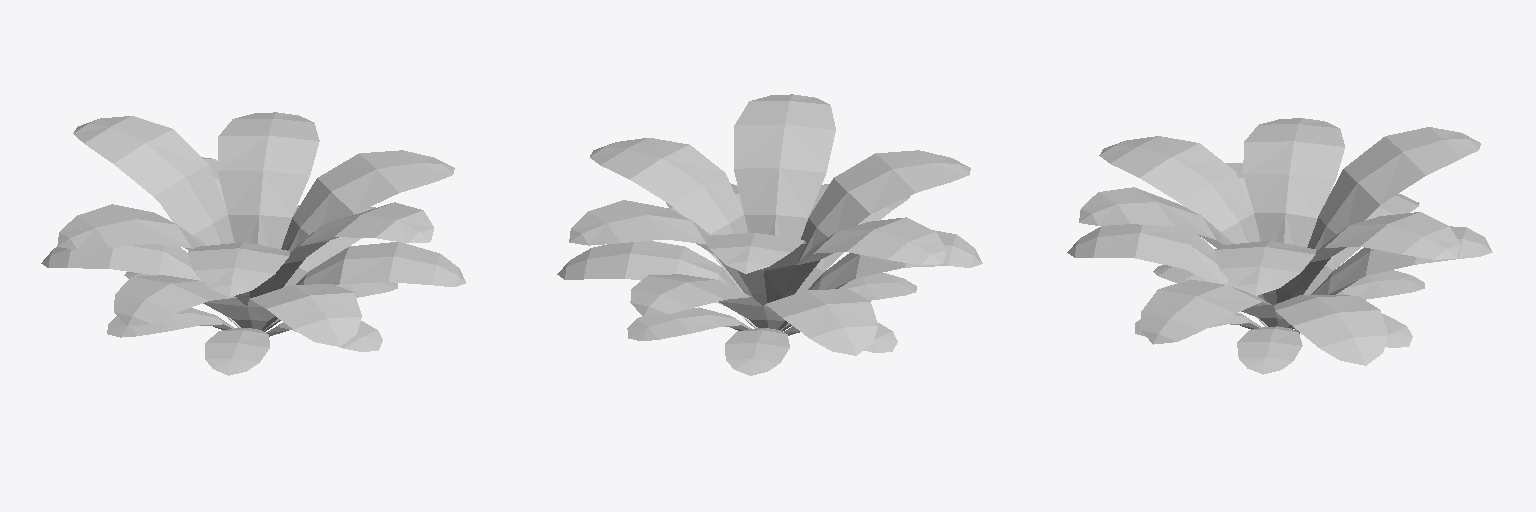
The model's file is grass.obj.
3 renders of one model, left to right at view 1: azimuth 30°, elevation 25°; view 2: azimuth 150°, elevation 25°; view 3: azimuth 270°, elevation 25°, orthographic.
Parts seen in each view (by area): view 1: GrassTop__MI_Grass_01.031_MI_Grass_01.001, GrassTop__MI_Grass_01.032_MI_Grass_01.001, GrassTop__MI_Grass_01.030_MI_Grass_01.001, GrassBase__MI_Grass_01_MI_Grass_01, GrassTop__MI_Grass_01.001_MI_Grass_01.001, GrassTop__MI_Grass_01_MI_Grass_01.001, GrassTop__MI_Grass_01.033_MI_Grass_01.001, GrassTop__MI_Grass_01.034_MI_Grass_01.001, GrassTop__MI_Grass_01.004_MI_Grass_01.001, GrassTop__MI_Grass_01.003_MI_Grass_01.001, GrassTop__MI_Grass_01.035_MI_Grass_01.001, GrassTop__MI_Grass_01.002_MI_Grass_01.001 (+2 smaller); view 2: GrassTop__MI_Grass_01.035_MI_Grass_01.001, GrassTop__MI_Grass_01.030_MI_Grass_01.001, GrassTop__MI_Grass_01.034_MI_Grass_01.001, GrassBase__MI_Grass_01_MI_Grass_01, GrassTop__MI_Grass_01.003_MI_Grass_01.001, GrassTop__MI_Grass_01.002_MI_Grass_01.001, GrassTop__MI_Grass_01.031_MI_Grass_01.001, GrassTop__MI_Grass_01.033_MI_Grass_01.001, GrassTop__MI_Grass_01.029_MI_Grass_01.001, GrassTop__MI_Grass_01.004_MI_Grass_01.001, GrassTop__MI_Grass_01.032_MI_Grass_01.001, GrassTop__MI_Grass_01.013_MI_Grass_01.001 (+3 smaller); view 3: GrassTop__MI_Grass_01.033_MI_Grass_01.001, GrassTop__MI_Grass_01.034_MI_Grass_01.001, GrassTop__MI_Grass_01.032_MI_Grass_01.001, GrassBase__MI_Grass_01_MI_Grass_01, GrassTop__MI_Grass_01.002_MI_Grass_01.001, GrassTop__MI_Grass_01_MI_Grass_01.001, GrassTop__MI_Grass_01.001_MI_Grass_01.001, GrassTop__MI_Grass_01.031_MI_Grass_01.001, GrassTop__MI_Grass_01.035_MI_Grass_01.001, GrassTop__MI_Grass_01.030_MI_Grass_01.001, GrassTop__MI_Grass_01.029_MI_Grass_01.001, GrassTop__MI_Grass_01.003_MI_Grass_01.001 (+1 smaller).
Boxes of the visible parts, <box> form: GrassTop__MI_Grass_01.031_MI_Grass_01.001: <box>217,112,319,248</box>; GrassTop__MI_Grass_01.032_MI_Grass_01.001: <box>73,116,234,245</box>; GrassTop__MI_Grass_01.030_MI_Grass_01.001: <box>281,150,454,252</box>; GrassBase__MI_Grass_01_MI_Grass_01: <box>107,272,397,375</box>; GrassTop__MI_Grass_01.001_MI_Grass_01.001: <box>296,242,465,286</box>; GrassTop__MI_Grass_01_MI_Grass_01.001: <box>250,284,361,346</box>; GrassTop__MI_Grass_01.033_MI_Grass_01.001: <box>57,204,207,249</box>; GrassTop__MI_Grass_01.034_MI_Grass_01.001: <box>188,242,289,297</box>; GrassTop__MI_Grass_01.004_MI_Grass_01.001: <box>114,275,235,326</box>; GrassTop__MI_Grass_01.003_MI_Grass_01.001: <box>41,244,202,281</box>; GrassTop__MI_Grass_01.035_MI_Grass_01.001: <box>290,202,433,253</box>; GrassTop__MI_Grass_01.002_MI_Grass_01.001: <box>283,205,375,287</box>; GrassTop__MI_Grass_01.035_MI_Grass_01.001: <box>734,94,835,239</box>; GrassTop__MI_Grass_01.030_MI_Grass_01.001: <box>590,138,748,234</box>; GrassTop__MI_Grass_01.034_MI_Grass_01.001: <box>797,150,970,262</box>; GrassBase__MI_Grass_01_MI_Grass_01: <box>627,273,916,375</box>; GrassTop__MI_Grass_01.003_MI_Grass_01.001: <box>766,289,877,355</box>; GrassTop__MI_Grass_01.002_MI_Grass_01.001: <box>557,241,739,290</box>; GrassTop__MI_Grass_01.031_MI_Grass_01.001: <box>569,200,711,245</box>; GrassTop__MI_Grass_01.033_MI_Grass_01.001: <box>797,217,946,264</box>; GrassTop__MI_Grass_01.029_MI_Grass_01.001: <box>630,274,750,316</box>; GrassTop__MI_Grass_01.004_MI_Grass_01.001: <box>808,230,982,289</box>; GrassTop__MI_Grass_01.032_MI_Grass_01.001: <box>704,233,804,273</box>; GrassTop__MI_Grass_01.013_MI_Grass_01.001: <box>737,241,806,306</box>; GrassTop__MI_Grass_01.033_MI_Grass_01.001: <box>1243,118,1344,247</box>; GrassTop__MI_Grass_01.034_MI_Grass_01.001: <box>1099,136,1260,243</box>; GrassTop__MI_Grass_01.032_MI_Grass_01.001: <box>1307,127,1480,251</box>; GrassBase__MI_Grass_01_MI_Grass_01: <box>1135,265,1424,374</box>; GrassTop__MI_Grass_01.002_MI_Grass_01.001: <box>1274,295,1387,365</box>; GrassTop__MI_Grass_01_MI_Grass_01.001: <box>1067,224,1243,290</box>; GrassTop__MI_Grass_01.001_MI_Grass_01.001: <box>1140,279,1271,344</box>; GrassTop__MI_Grass_01.031_MI_Grass_01.001: <box>1316,212,1460,259</box>; GrassTop__MI_Grass_01.035_MI_Grass_01.001: <box>1079,187,1233,244</box>; GrassTop__MI_Grass_01.030_MI_Grass_01.001: <box>1214,240,1315,295</box>; GrassTop__MI_Grass_01.029_MI_Grass_01.001: <box>1311,226,1492,294</box>; GrassTop__MI_Grass_01.003_MI_Grass_01.001: <box>1303,194,1419,294</box>.
Bounding box in the file's own units: 1.49 × 0.6498 × 1.47.